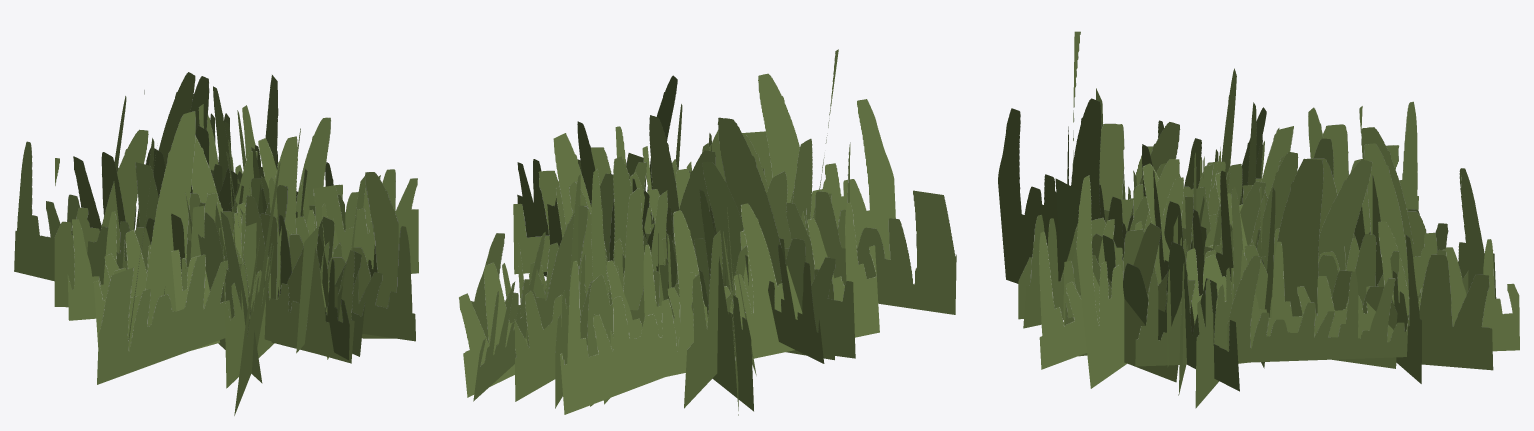
The model's file is testgrass_dualquad.glb.
The picture shows the model from 3 angles, left to right: view 1: azimuth 30°, elevation 25°; view 2: azimuth 150°, elevation 25°; view 3: azimuth 270°, elevation 25°; orthographic projection. The views are drawn at different scales.
Visible parts, largest first — view 1: g_7, g_8, g_5, g_3, g_4, g_6, g_2, g_1; view 2: g_7, g_8, g_3, g_4, g_5, g_2, g_6, g_1; view 3: g_5, g_7, g_8, g_6, g_3, g_4, g_1, g_2.
Part boxes in pixels (x1=…): g_7: x1=67, y1=72, x2=365, y2=415; g_8: x1=73, y1=111, x2=380, y2=359; g_5: x1=144, y1=75, x2=398, y2=388; g_3: x1=14, y1=96, x2=415, y2=341; g_4: x1=119, y1=86, x2=418, y2=363; g_6: x1=54, y1=129, x2=377, y2=350; g_2: x1=128, y1=145, x2=349, y2=360; g_1: x1=198, y1=104, x2=328, y2=310; g_7: x1=591, y1=49, x2=956, y2=404; g_8: x1=513, y1=117, x2=834, y2=408; g_3: x1=526, y1=104, x2=753, y2=415; g_4: x1=514, y1=121, x2=743, y2=401; g_5: x1=459, y1=75, x2=850, y2=408; g_2: x1=606, y1=202, x2=879, y2=376; g_6: x1=502, y1=115, x2=806, y2=411; g_1: x1=471, y1=205, x2=693, y2=350; g_5: x1=1067, y1=126, x2=1519, y2=388; g_7: x1=998, y1=31, x2=1413, y2=368; g_8: x1=1055, y1=68, x2=1426, y2=391; g_6: x1=1104, y1=106, x2=1409, y2=395; g_3: x1=1039, y1=101, x2=1496, y2=369; g_4: x1=1023, y1=107, x2=1468, y2=408; g_1: x1=1098, y1=175, x2=1421, y2=383; g_2: x1=1018, y1=120, x2=1364, y2=319.
Bounding box in the file's own units: 1.79 × 1.11 × 2.03.
1 material, 1 textured.
